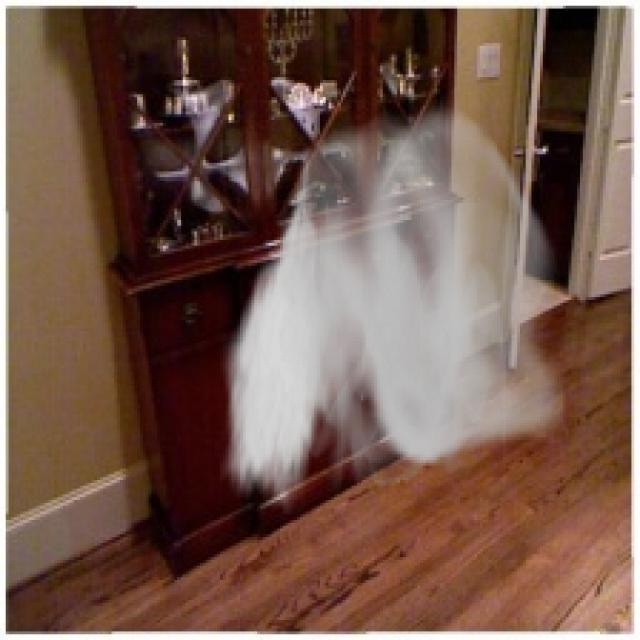Smoke: (220, 94, 566, 514)
